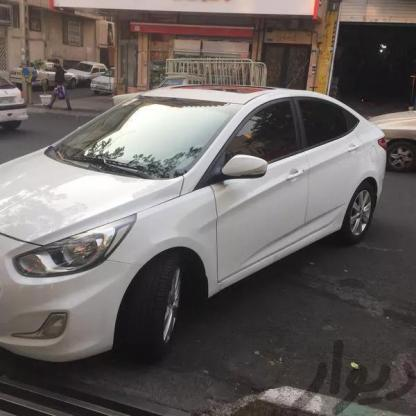Car: (0, 82, 393, 364), (366, 97, 416, 187), (22, 54, 79, 102), (0, 76, 37, 149)
